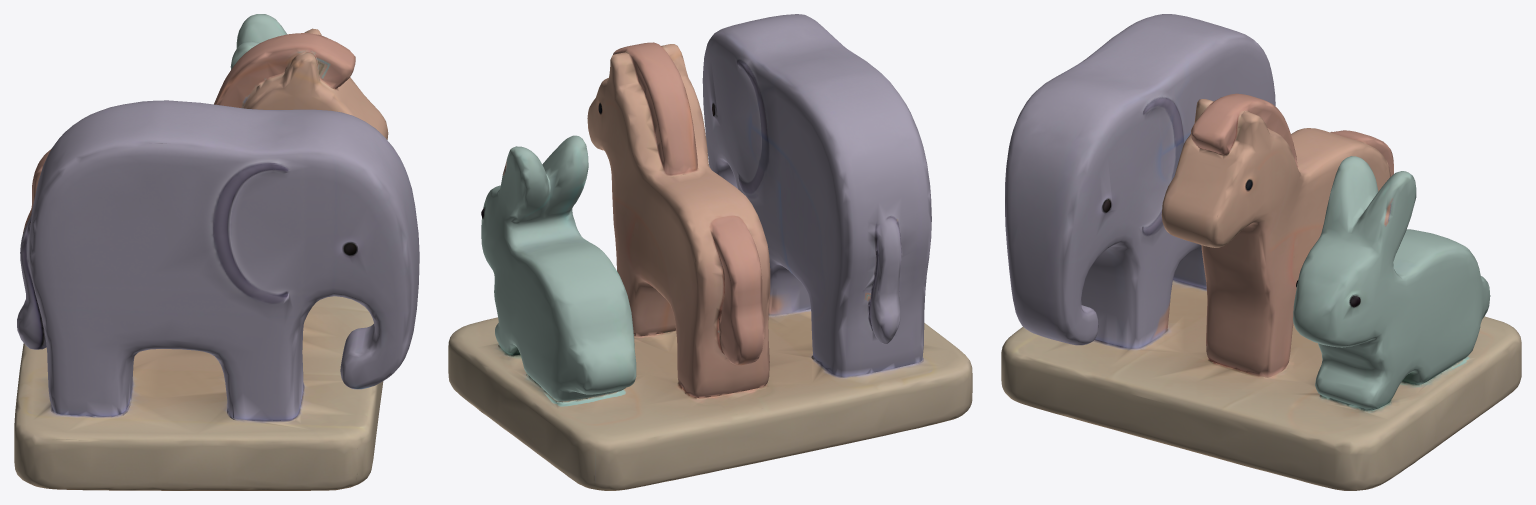
3 renders of one model, left to right at view 1: azimuth 30°, elevation 25°; view 2: azimuth 150°, elevation 25°; view 3: azimuth 270°, elevation 25°, orthographic. The views are drawn at different scales.
Visible parts, largest first — view 1: repaired; view 2: repaired; view 3: repaired.
Boxes of the visible parts, bbox=[...] form: repaired: bbox=[14, 14, 419, 490]; repaired: bbox=[448, 14, 972, 490]; repaired: bbox=[1001, 14, 1521, 490].
Bounding box in the file's own units: 0.9681 × 0.6926 × 0.9994.
Materials: 1 (1 with a texture image).
